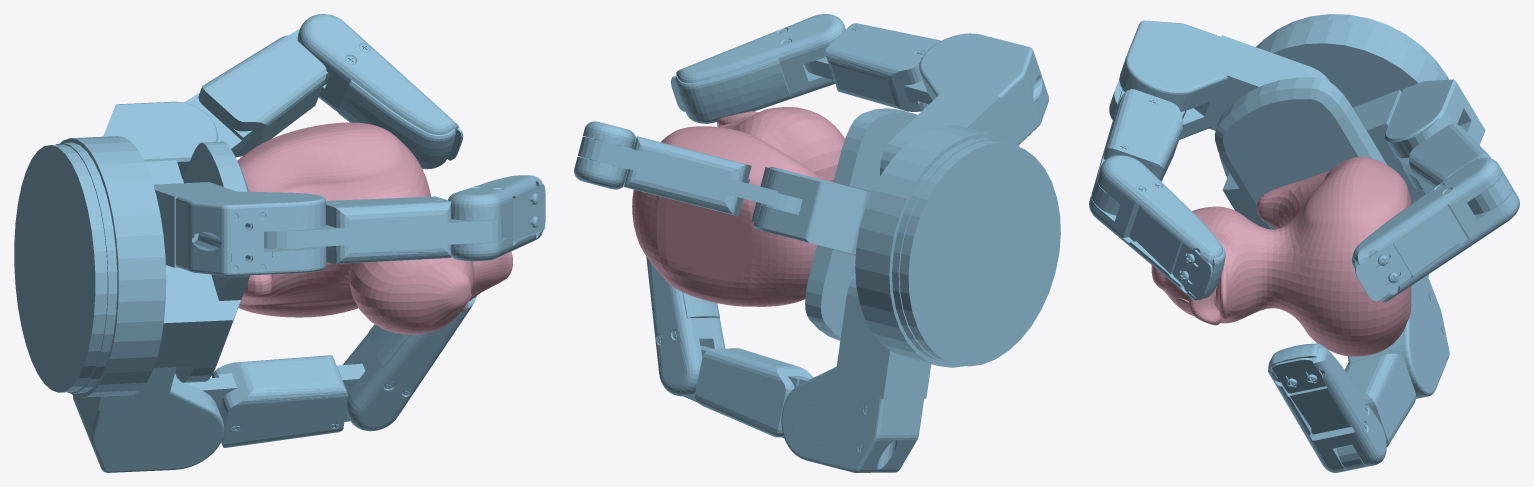
The picture shows the model from 3 angles, left to right: view 1: azimuth 30°, elevation 25°; view 2: azimuth 150°, elevation 25°; view 3: azimuth 270°, elevation 25°; orthographic projection. The views are drawn at different scales.
Visible parts, largest first — view 1: world; view 2: world; view 3: world.
Part boxes in pixels (<box>): world: <box>14,14,545,472</box>; world: <box>574,14,1060,472</box>; world: <box>1089,14,1519,472</box>.
Bounding box in the file's own units: 0.1742 × 0.1417 × 0.1591.
